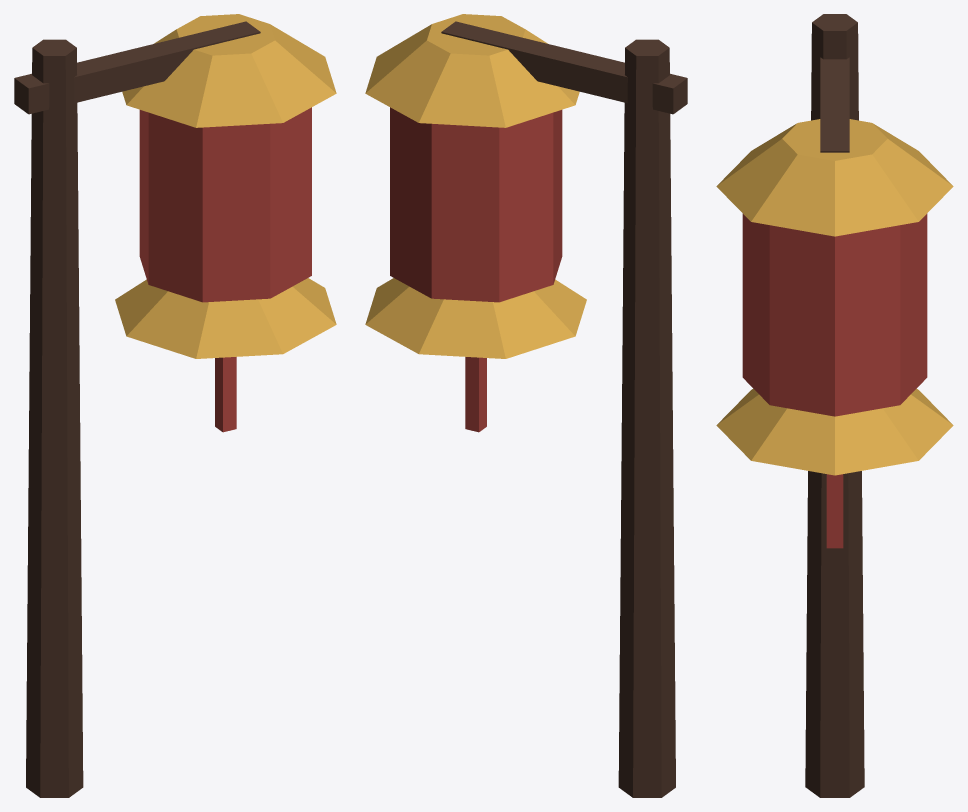
File: prop_lantern.glb
The picture shows the model from 3 angles, left to right: view 1: azimuth 30°, elevation 25°; view 2: azimuth 150°, elevation 25°; view 3: azimuth 270°, elevation 25°; orthographic projection. The views are drawn at different scales.
Visible parts, largest first — view 1: Post.001, LanternBody.001, LanternCapTop.001, LanternCapBottom.001, Crossbar.001, Tassel.001; view 2: Post.001, LanternBody.001, LanternCapTop.001, LanternCapBottom.001, Crossbar.001, Tassel.001; view 3: LanternBody.001, Post.001, LanternCapTop.001, LanternCapBottom.001, Crossbar.001, Tassel.001.
Part boxes in pixels (x1,y1,x2,y2): Post.001: (26,39,83,797); LanternBody.001: (139,107,311,302); LanternCapTop.001: (122,14,336,127); LanternCapBottom.001: (115,278,336,358); Crossbar.001: (14,21,260,114); Tassel.001: (215,357,236,432); Post.001: (618,39,675,797); LanternBody.001: (390,107,562,302); LanternCapTop.001: (365,14,579,127); LanternCapBottom.001: (365,278,586,358); Crossbar.001: (441,21,687,114); Tassel.001: (465,357,486,432); LanternBody.001: (742,213,927,416); Post.001: (805,14,864,797); LanternCapTop.001: (716,119,953,236); LanternCapBottom.001: (716,388,953,475); Crossbar.001: (820,57,849,152); Tassel.001: (826,474,843,548).
Size of the model in its own units: 0.55 by 1.28 by 0.36.
